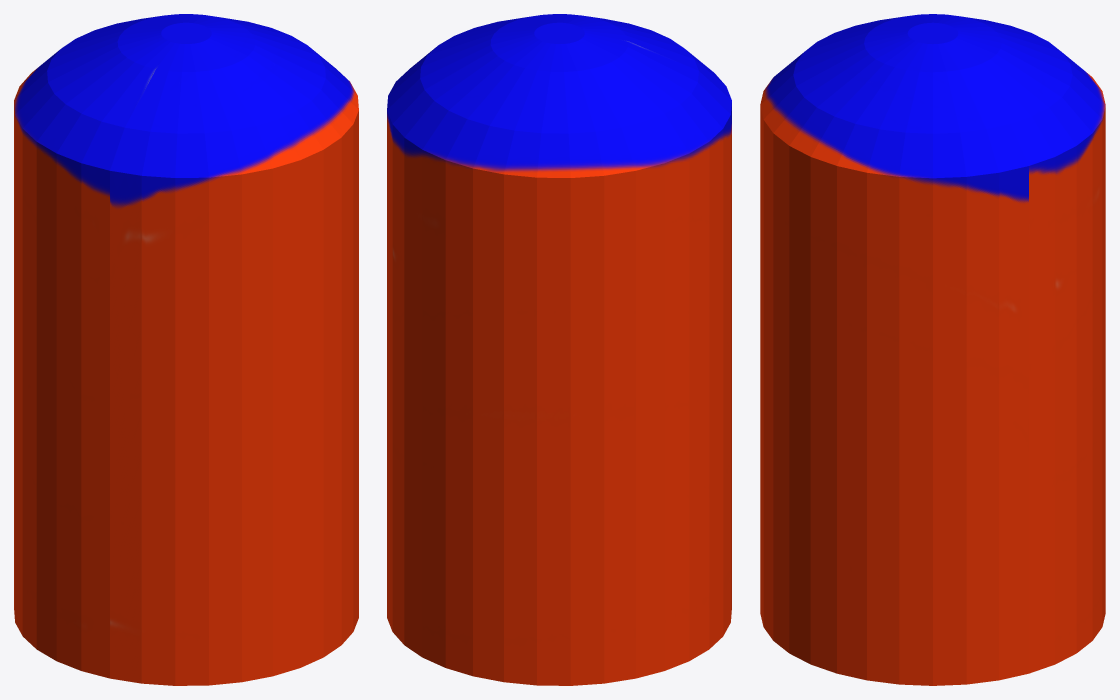
Rendered from cilindro_alto.fbx.
3 renders of one model, left to right at view 1: azimuth 30°, elevation 25°; view 2: azimuth 150°, elevation 25°; view 3: azimuth 270°, elevation 25°, orthographic.
Visible parts, largest first — view 1: Cylinder; view 2: Cylinder; view 3: Cylinder.
Part boxes in pixels (left/top/right/bottom): Cylinder: left=14, top=14, right=358, bottom=685; Cylinder: left=387, top=14, right=731, bottom=685; Cylinder: left=760, top=14, right=1105, bottom=685.
Size of the model in its own units: 1.53 by 2.93 by 1.53.
Materials: 1 (1 with a texture image).
